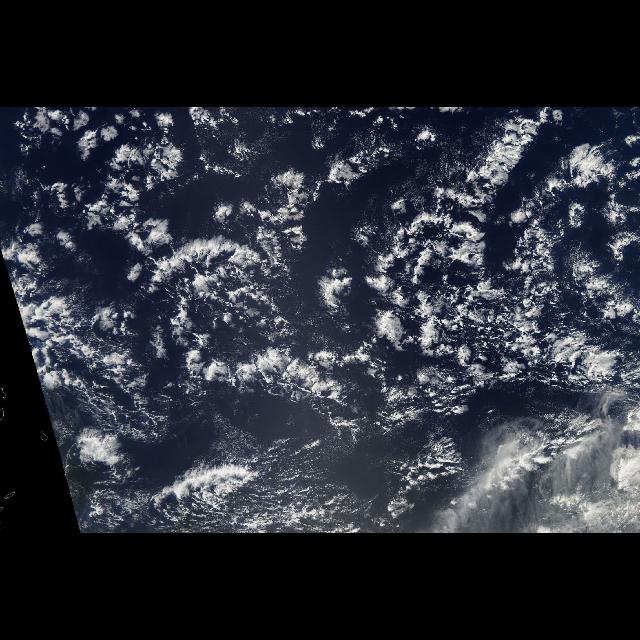Fish: (156, 341, 356, 419)
Flower: (0, 113, 182, 269)
Gravel: (360, 207, 636, 423)
